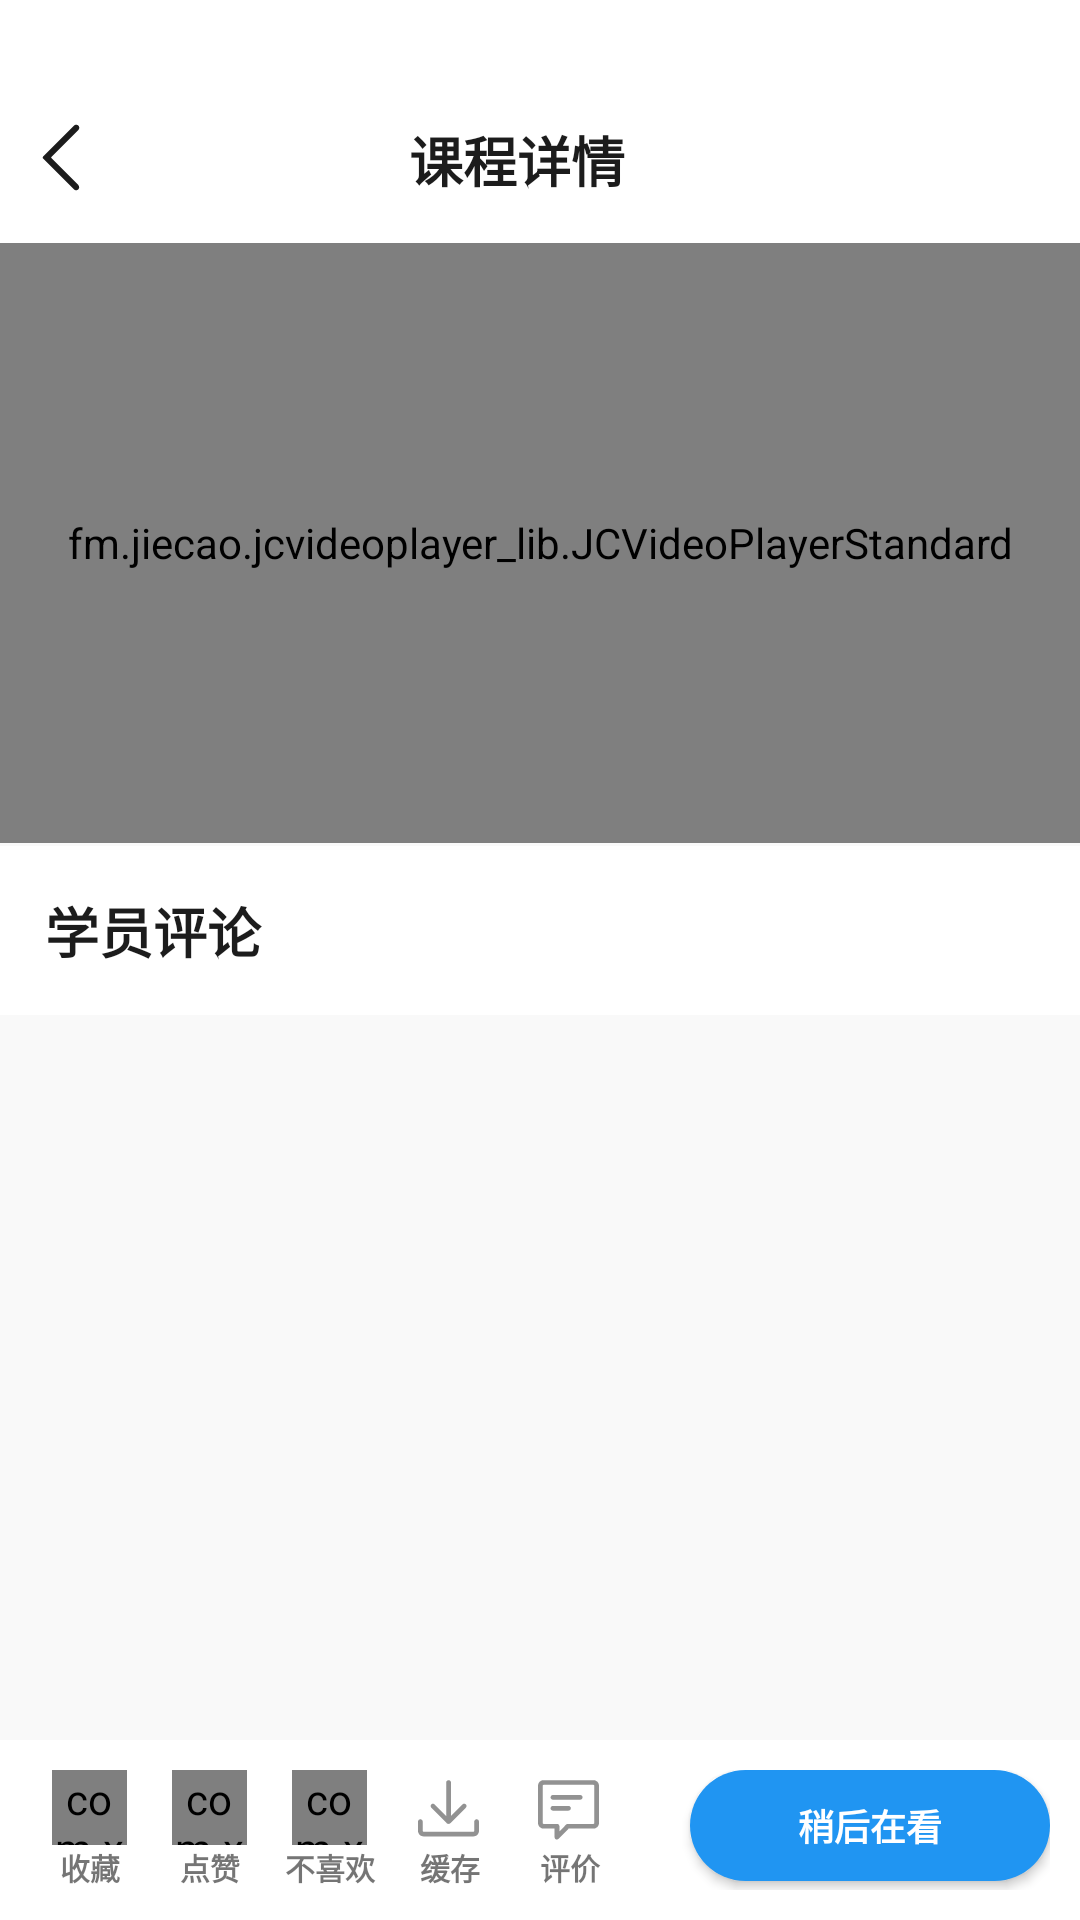

Named icons in this screenshot (1080×1920) and their bounding boxes, (x1, y1, x2, y2):
back: (42, 124, 80, 191)
